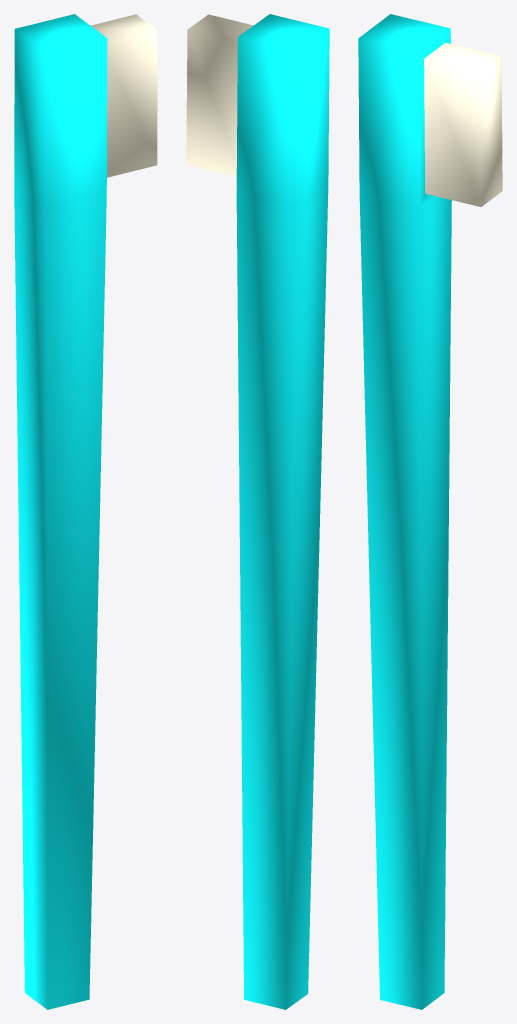
Rendered from ToothBrush.005.glb.
3 views of the same model, side by side, from view 1: azimuth 30°, elevation 25°; view 2: azimuth 150°, elevation 25°; view 3: azimuth 330°, elevation 25° (orthographic).
Visible parts, largest first — view 1: ToothBrush.005; view 2: ToothBrush.005; view 3: ToothBrush.005.
Part boxes in pixels (x1,y1,x2,y2): ToothBrush.005: (14,14,157,1009); ToothBrush.005: (186,14,329,1009); ToothBrush.005: (358,14,502,1009).
Size of the model in its own units: 0.0328 by 0.2598 by 0.0163.
Materials: 1 (1 with a texture image).
